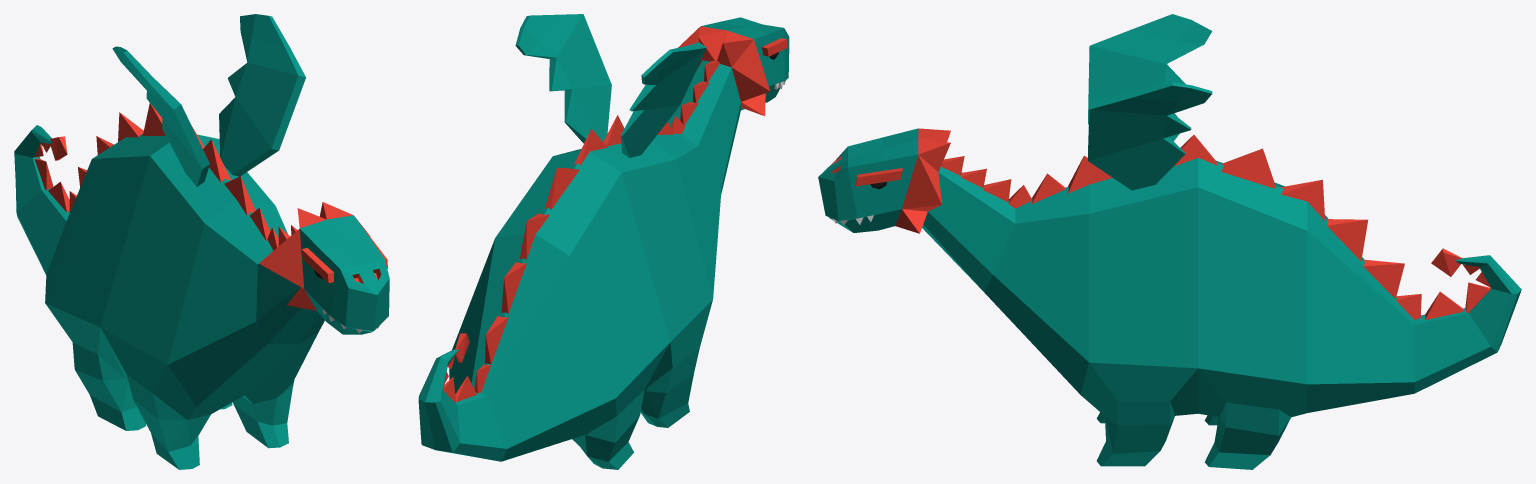
The model's file is Dragon.glb.
The picture shows the model from 3 angles, left to right: view 1: azimuth 30°, elevation 25°; view 2: azimuth 150°, elevation 25°; view 3: azimuth 270°, elevation 25°; orthographic projection.
Visible parts, largest first — view 1: Dragon_01_Cube.026; view 2: Dragon_01_Cube.026; view 3: Dragon_01_Cube.026.
Boxes of the visible parts, box(x1,y1,x2,y2) form: Dragon_01_Cube.026: box(14, 14, 389, 469); Dragon_01_Cube.026: box(418, 14, 789, 469); Dragon_01_Cube.026: box(818, 14, 1521, 469).
Size of the model in its own units: 8.81 by 19.87 by 32.23.
